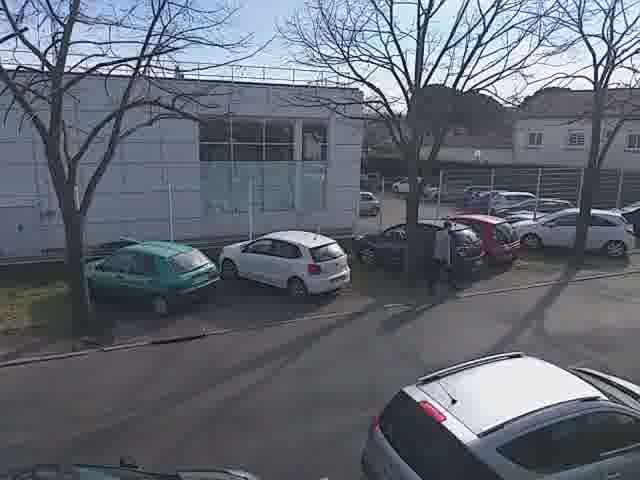persona: (425, 213, 463, 298)
